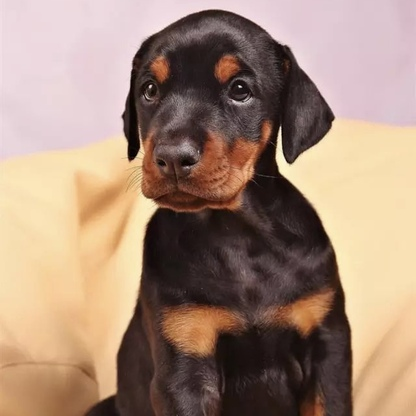doberman: (96, 8, 367, 416)
